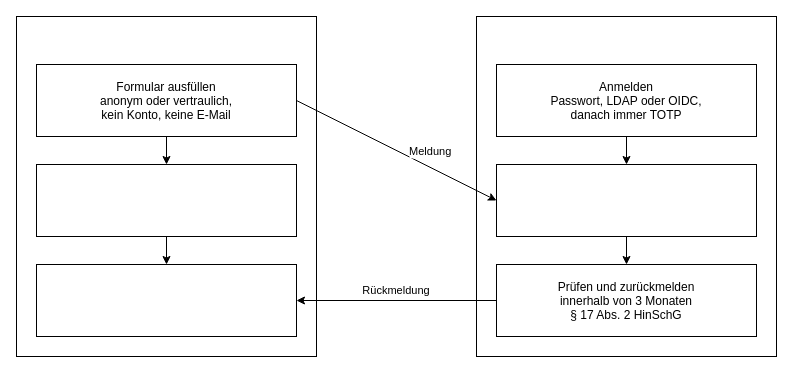
Image size: 793x373. Some labels were removed from this diagram. The box of each missing label's shape, as (x1, y1, x2, y2) in pixels:
Eingang bestätigen innerhalb von 7 Tagen § 17 Abs. 1 Nr. 1 HinSchG: (496, 164, 756, 236)
Fallnummer + PIN notieren erscheinen genau einmal, verloren heißt verloren: (36, 164, 296, 236)
Status prüfen, antworten unter /status: Status, Fristen, Antworten: (36, 264, 296, 336)
